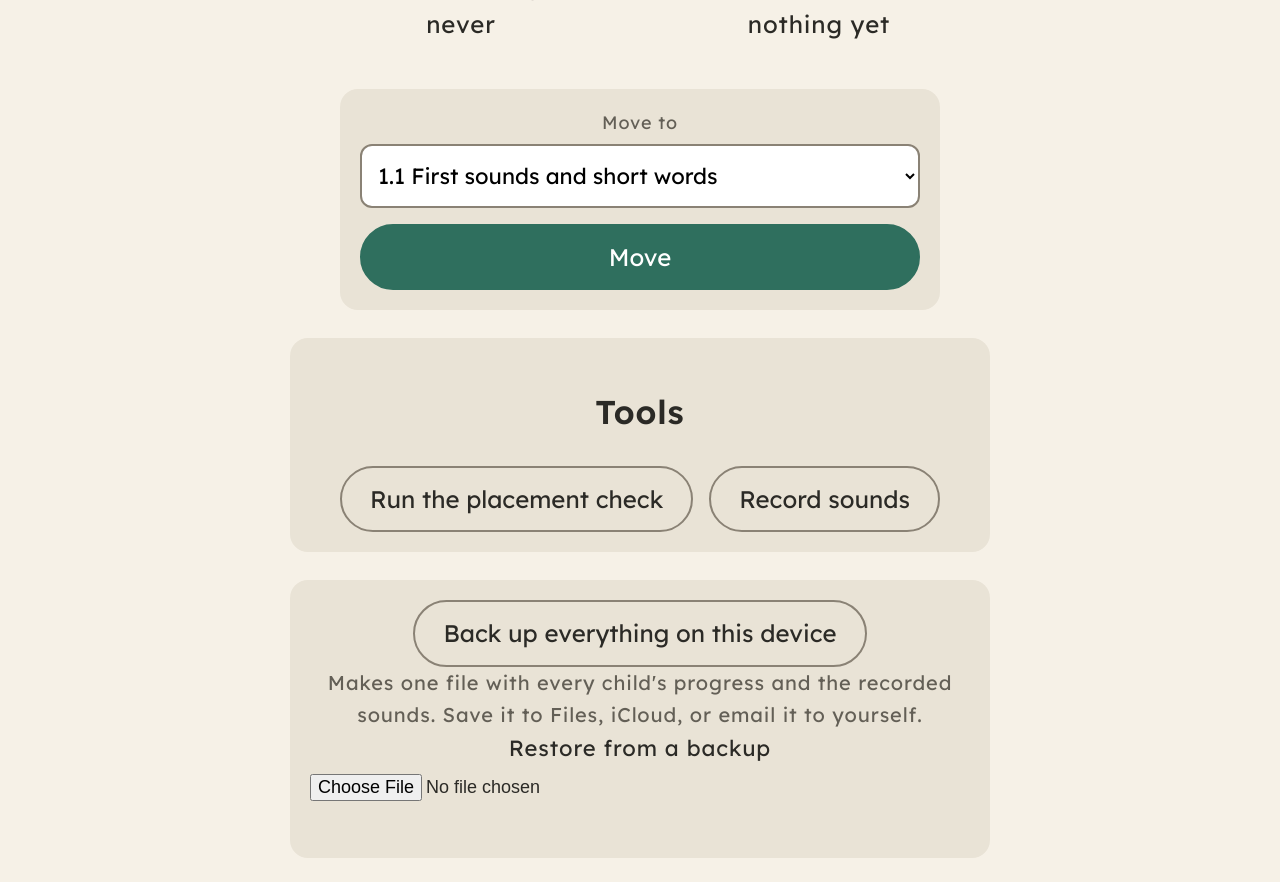
Test case: ParentArea › opens the recording page from the tools
(page scrolled)
Click the button "Record sounds": [825, 499] box [709,466,940,532]
(page scrolled)
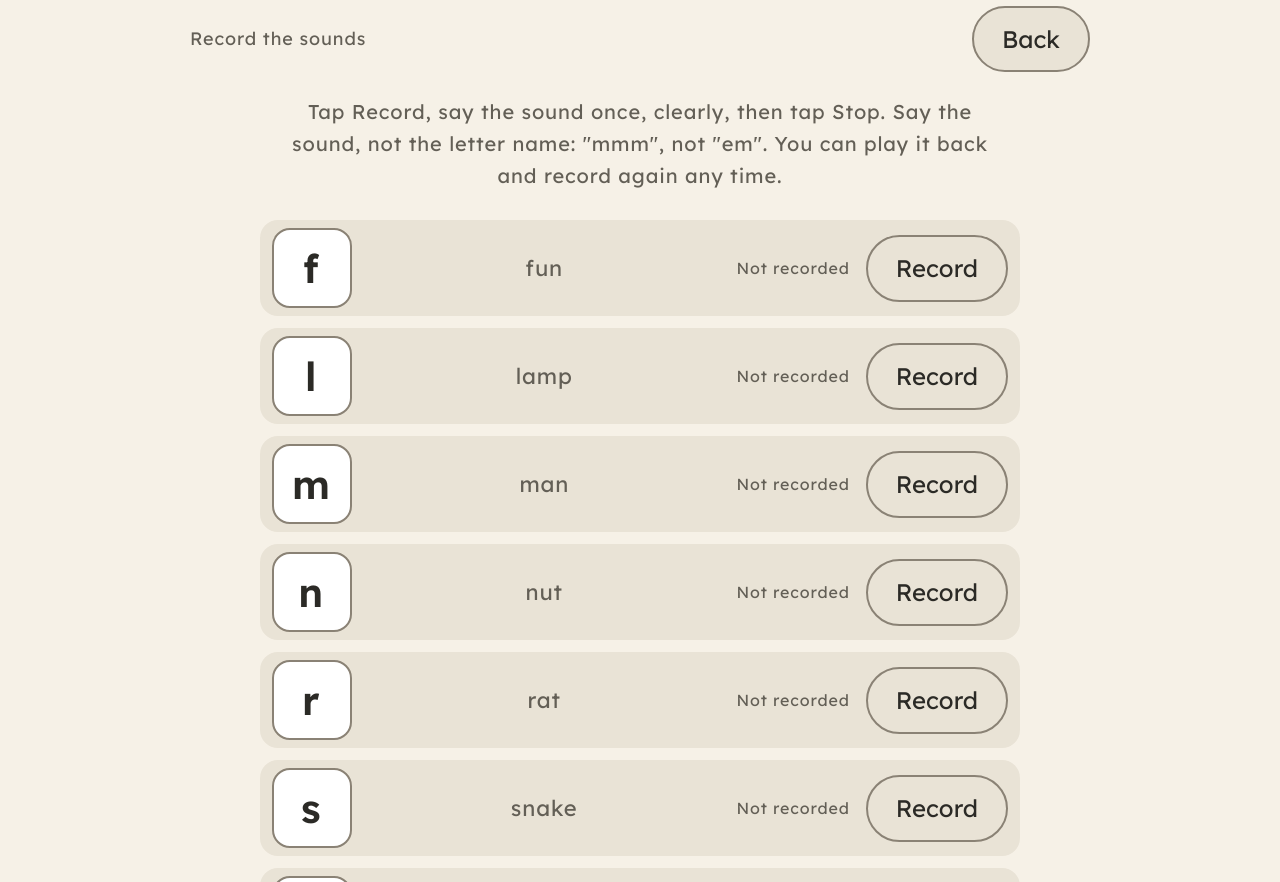
Check: the text "Record the sounds" is shown, box [190,25,366,54]
Click the button "Back": [1031, 39] box [972,6,1090,72]
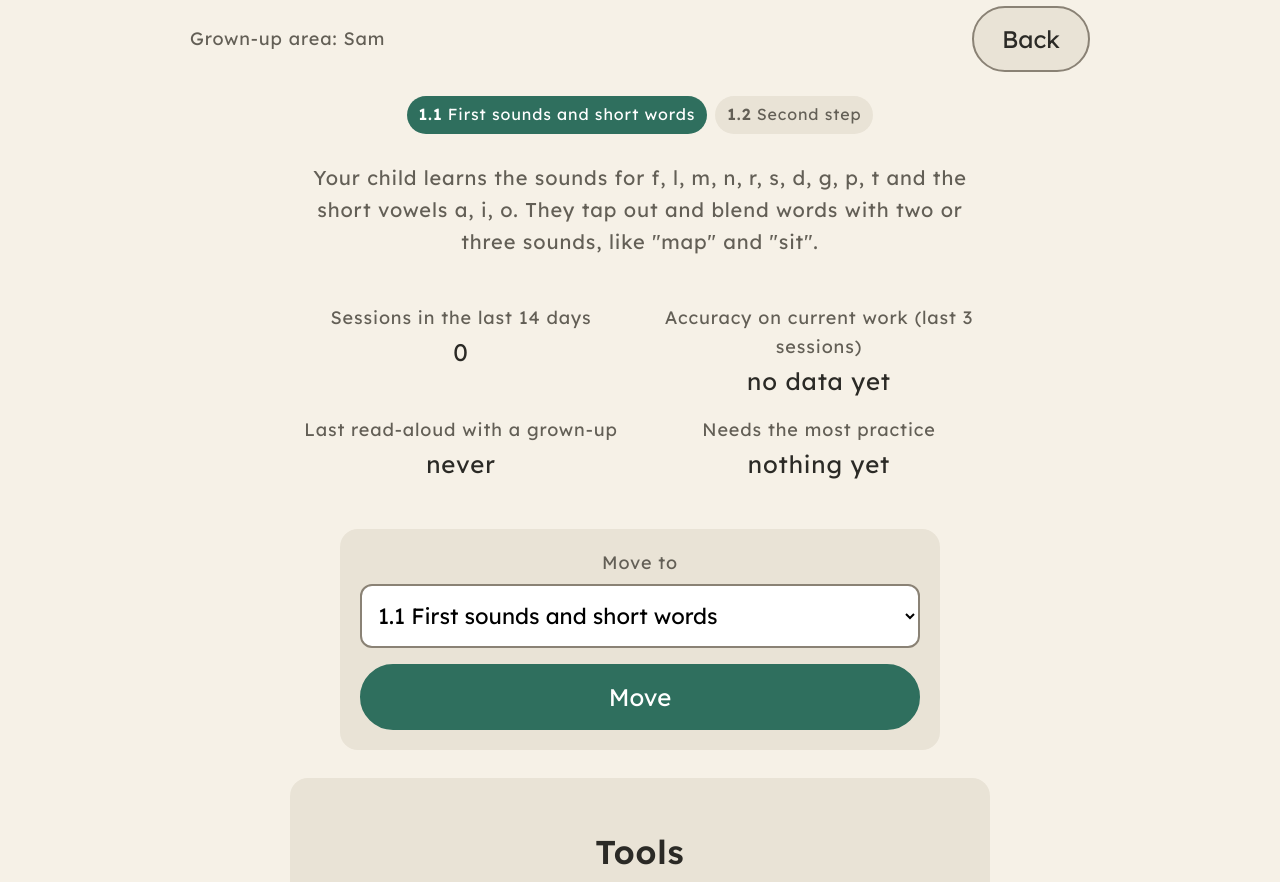
Check: the text "Grown-up area: Sam" is shown, box [190,25,385,54]
